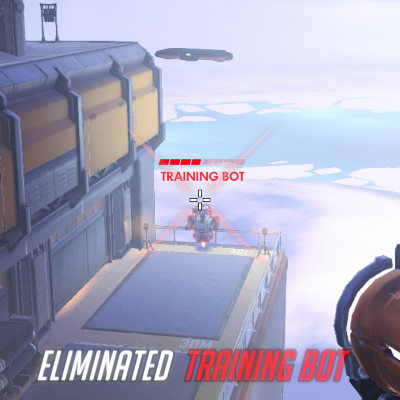hpbar: (158, 158, 246, 166)
